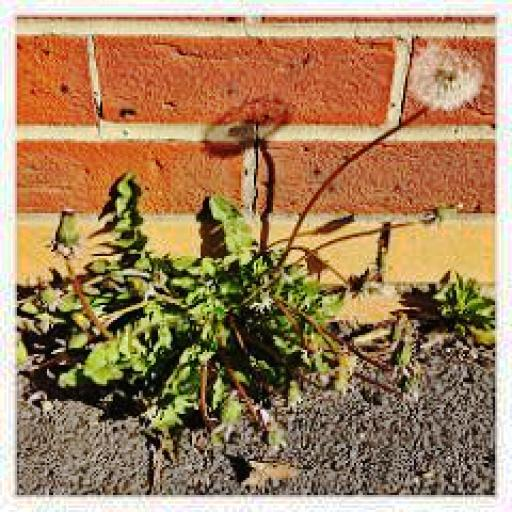dandelion: (412, 45, 480, 111)
